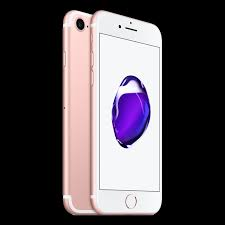iphone: (87, 8, 164, 217)
iphone7: (87, 8, 164, 217)
